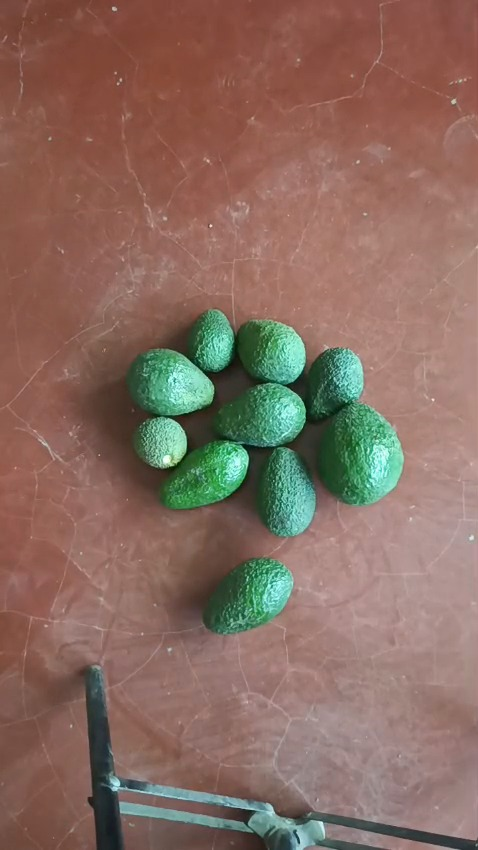Primera: (316, 403, 404, 504)
Segunda: (203, 557, 293, 634), (158, 439, 248, 509), (212, 382, 307, 447), (125, 349, 215, 417), (255, 445, 315, 536), (235, 318, 306, 385)
Tercera: (303, 347, 364, 421), (187, 308, 235, 373), (132, 416, 188, 469)
